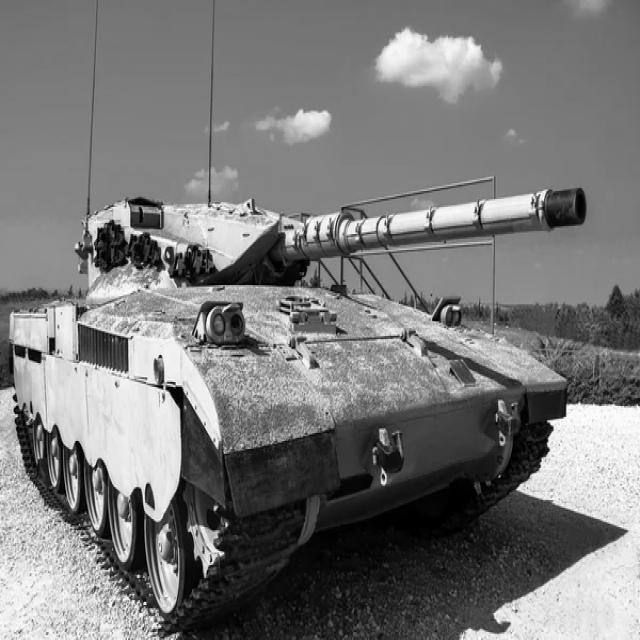Tank: (12, 137, 595, 620)
